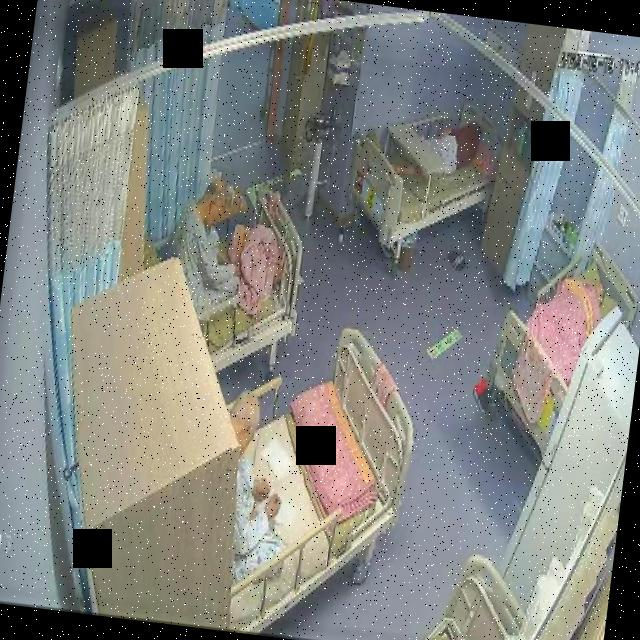bed: (194, 316, 426, 640), (479, 232, 640, 462), (155, 182, 308, 380), (345, 86, 505, 260)
lie: (392, 108, 484, 179)
patient: (206, 388, 296, 596), (170, 170, 252, 329), (422, 112, 484, 180)
sit: (204, 386, 300, 595), (170, 170, 255, 328)
